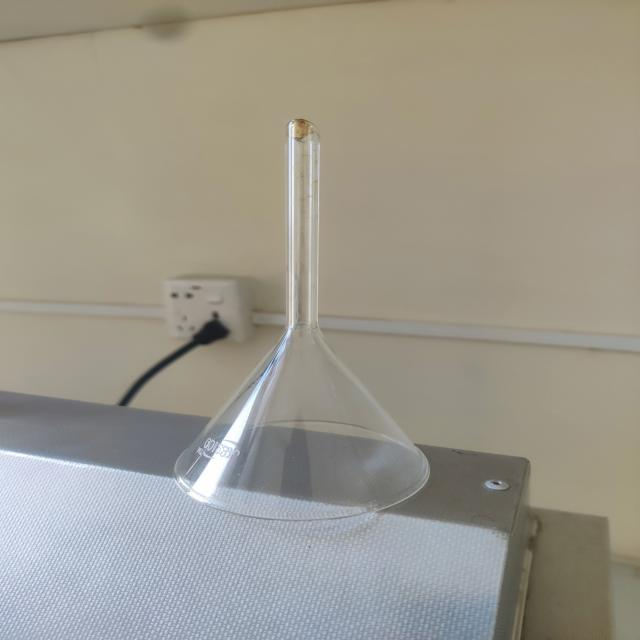Funnel: (130, 87, 497, 545)
